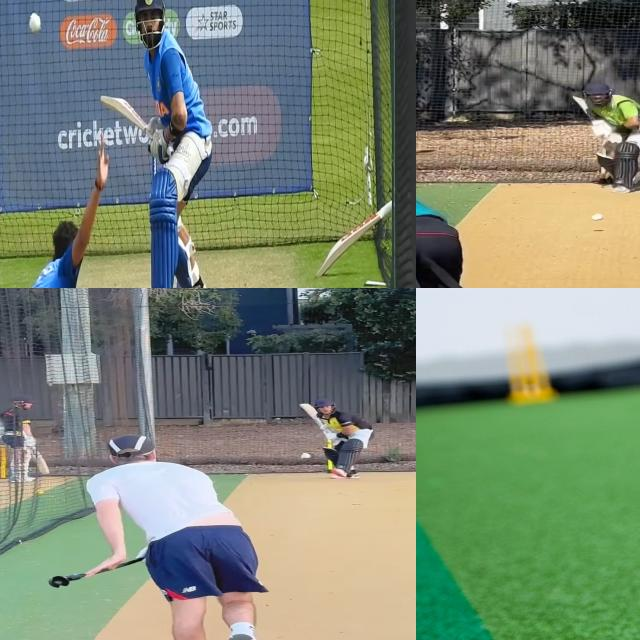Cricket ball: (27, 11, 41, 40), (591, 213, 604, 222), (298, 453, 314, 460)
